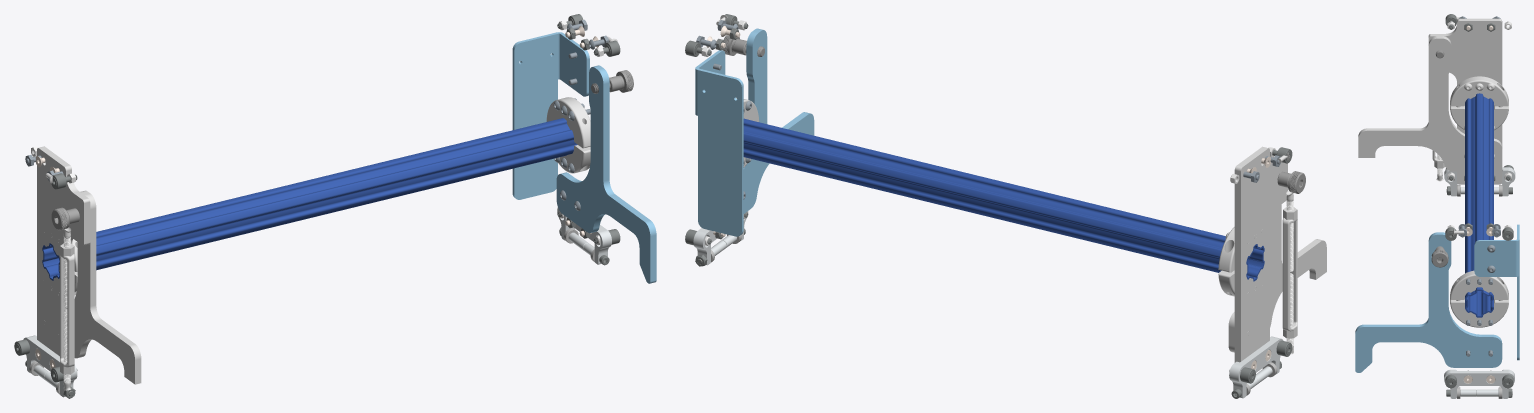
3 renders of one model, left to right at view 1: azimuth 30°, elevation 25°; view 2: azimuth 150°, elevation 25°; view 3: azimuth 270°, elevation 25°, orthographic. The views are drawn at different scales.
Visible parts, largest first — view 1: REV-21-2520_RevB, 4450_2024_P_146, 4450_2024_P_109, id325, id330, REV-21-2581 (×2), 2999T51_Forged Galvanized Steel Turnbuckle, 2x1 UniPlate V0.1 alt screw (×2); view 2: REV-21-2520_RevB, 4450_2024_P_146, id325, 4450_2024_P_109, id330, 2999T51_Forged Galvanized Steel Turnbuckle, 2x1 UniPlate V0.1 alt screw; view 3: 4450_2024_P_109, id330, REV-21-2520_RevB, id325, REV-21-2581 (×4), 4450_2024_P_146, 2x1 UniPlate V0.1 alt screw (×2), 91259A707_Alloy Steel Shoulder Screw, am-xxxx 1.000t x .192id .313OD Aluminum Spacer.
Part boxes in pixels (left/top/right/bottom): REV-21-2520_RevB: left=42, top=118, right=577, bottom=280; 4450_2024_P_146: left=512, top=32, right=589, bottom=199; 4450_2024_P_109: left=556, top=65, right=656, bottom=283; id325: left=37, top=146, right=90, bottom=356; id330: left=74, top=190, right=141, bottom=384; REV-21-2581 (×2): left=546, top=97, right=590, bottom=173; 2999T51_Forged Galvanized Steel Turnbuckle: left=60, top=243, right=74, bottom=374; 2x1 UniPlate V0.1 alt screw (×2): left=23, top=207, right=611, bottom=397; REV-21-2520_RevB: left=743, top=118, right=1264, bottom=281; 4450_2024_P_146: left=695, top=50, right=743, bottom=236; id325: left=1234, top=146, right=1287, bottom=362; 4450_2024_P_109: left=743, top=28, right=814, bottom=213; id330: left=1228, top=156, right=1326, bottom=352; 2999T51_Forged Galvanized Steel Turnbuckle: left=1282, top=207, right=1297, bottom=338; 2x1 UniPlate V0.1 alt screw: left=1229, top=336, right=1283, bottom=398; 4450_2024_P_109: left=1355, top=232, right=1502, bottom=372; id330: left=1358, top=36, right=1502, bottom=171; REV-21-2520_RevB: left=1465, top=93, right=1493, bottom=317; id325: left=1428, top=18, right=1502, bottom=184; REV-21-2581 (×4): left=1450, top=76, right=1508, bottom=327; 4450_2024_P_146: left=1474, top=224, right=1519, bottom=360; 2x1 UniPlate V0.1 alt screw (×2): left=1444, top=167, right=1515, bottom=398; 91259A707_Alloy Steel Shoulder Screw: left=1431, top=246, right=1448, bottom=267; am-xxxx 1.000t x .192id .313OD Aluminum Spacer: left=1476, top=389, right=1498, bottom=396.
Bounding box in the file's own units: 0.5821 × 0.2208 × 0.1848.
